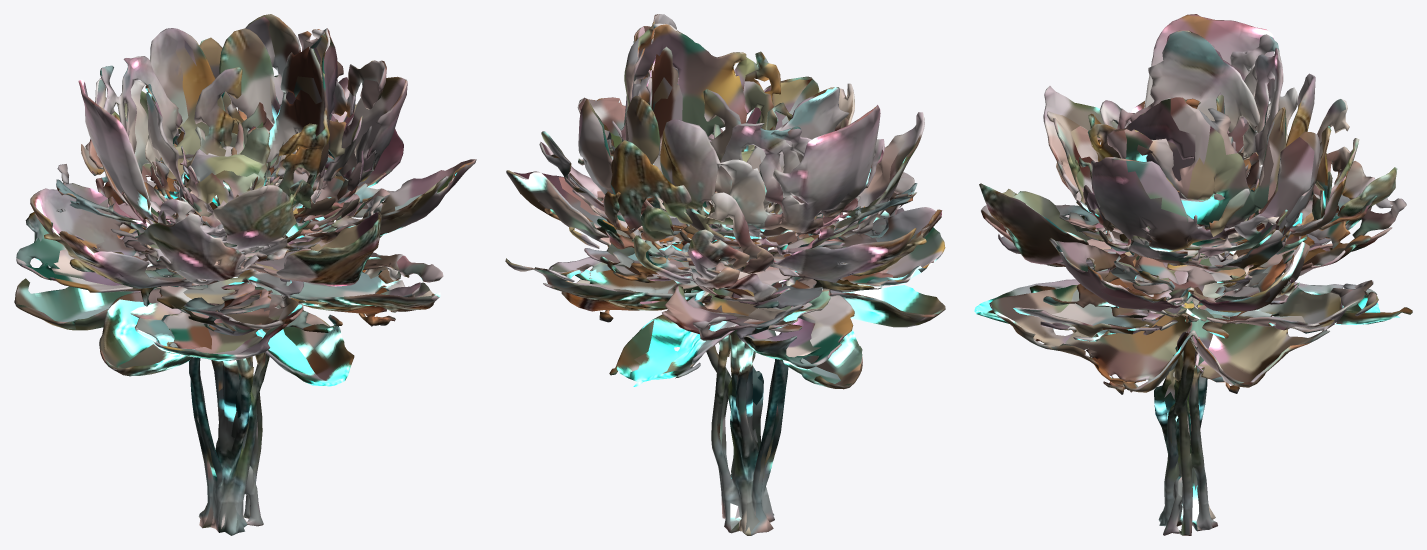
File: cyber_lotus_aquatic.glb
3 renders of one model, left to right at view 1: azimuth 30°, elevation 25°; view 2: azimuth 150°, elevation 25°; view 3: azimuth 270°, elevation 25°, orthographic.
Parts seen in each view (by area): view 1: geometry_0; view 2: geometry_0; view 3: geometry_0.
Boxes of the visible parts, box(x1,y1,x2,y2) form: geometry_0: box(14, 14, 476, 535); geometry_0: box(505, 14, 945, 535); geometry_0: box(974, 14, 1412, 535).
Bounding box in the file's own units: 1.12 × 1.3 × 1.09.
Materials: 1 (1 with a texture image).
